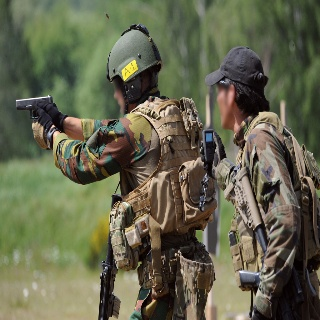pistol: (15, 95, 55, 120)
rifle: (97, 192, 128, 320)
